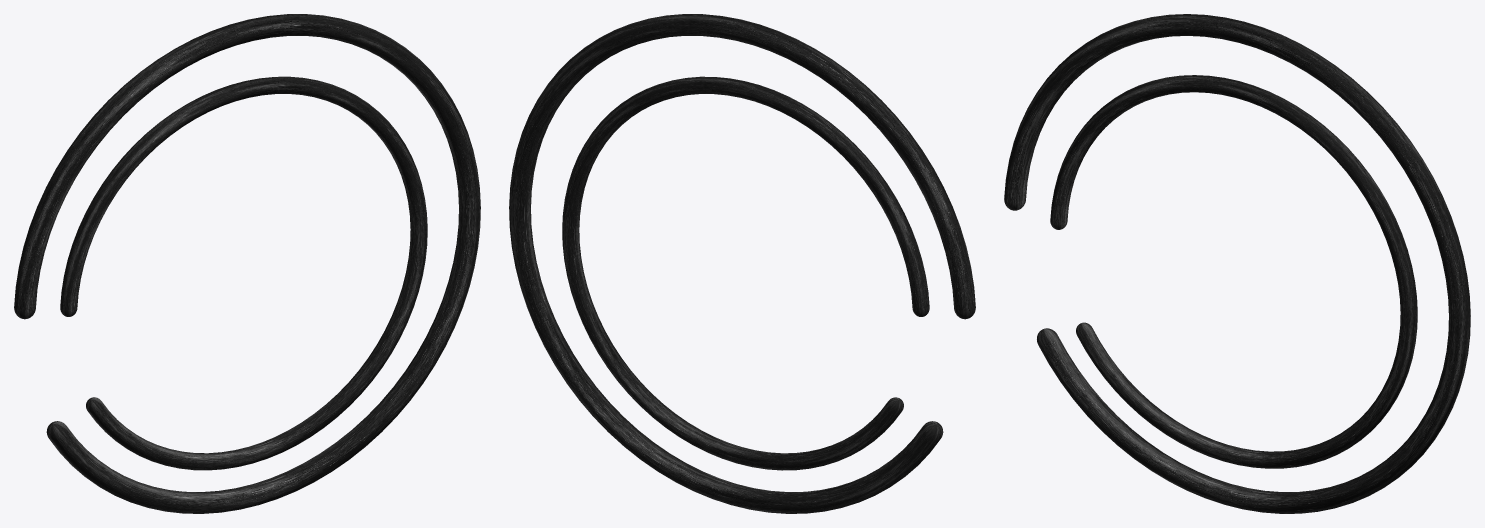
File: cables.fbx
3 renders of one model, left to right at view 1: azimuth 30°, elevation 25°; view 2: azimuth 150°, elevation 25°; view 3: azimuth 330°, elevation 25°, orthographic.
Parts seen in each view (by area): view 1: Cable_2, Cable; view 2: Cable_2, Cable; view 3: Cable_2, Cable.
Part boxes in pixels (x1,y1,x2,y2): Cable_2: (14,14,480,513); Cable: (60,76,427,470); Cable_2: (509,14,975,513); Cable: (562,76,929,470); Cable_2: (1004,14,1470,513); Cable: (1050,75,1417,468).
Size of the model in its own units: 24.43 by 24.43 by 0.9985.
